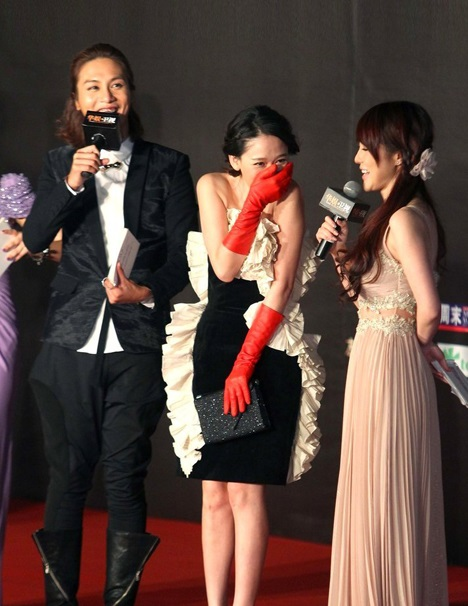face: (77, 59, 131, 125), (242, 133, 290, 195), (355, 132, 390, 190)
